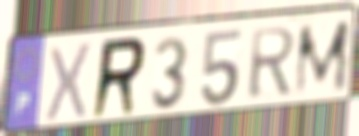3: (149, 34, 191, 111)
5: (198, 26, 244, 108)
M: (291, 17, 352, 100)
R: (88, 34, 149, 123), (246, 24, 299, 103)
X: (43, 39, 95, 124)
